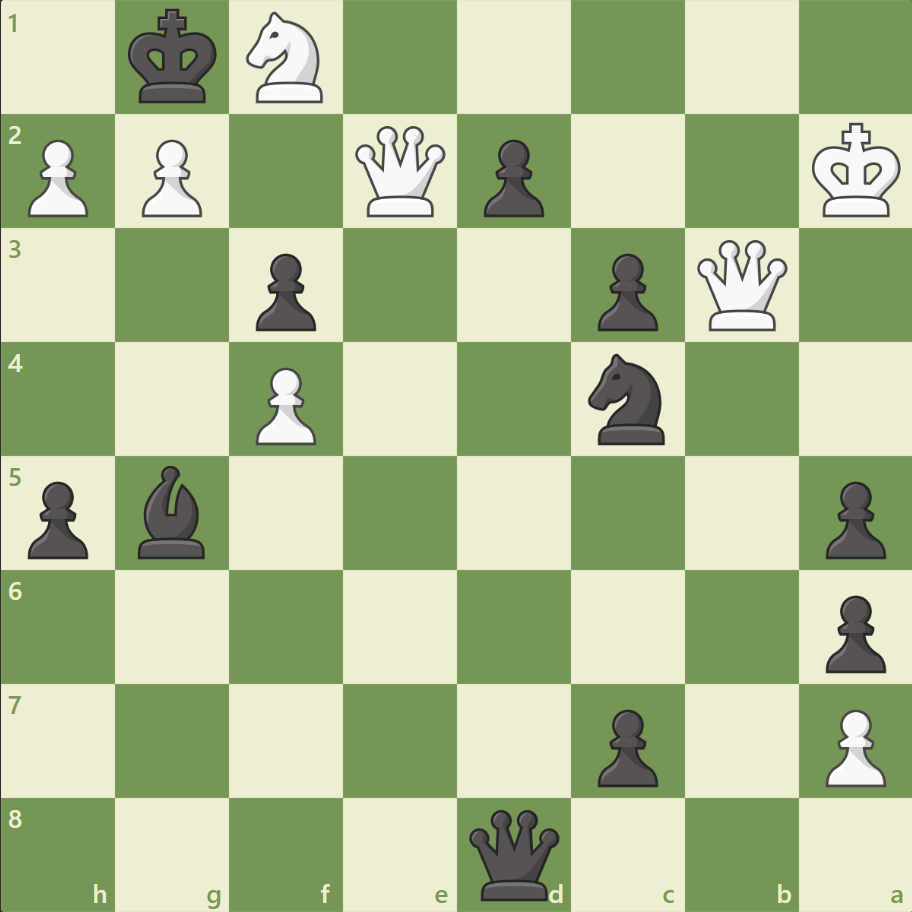K: (806, 117, 906, 225)
N: (238, 7, 335, 110)
P: (247, 359, 322, 450), (133, 132, 208, 223), (20, 132, 95, 223), (815, 700, 889, 791)
Q: (351, 122, 450, 222), (691, 236, 790, 335)
b: (131, 460, 215, 563)
k: (124, 4, 224, 112)
n: (579, 348, 676, 450)
p: (20, 473, 95, 564), (247, 246, 322, 337), (474, 132, 549, 223), (588, 700, 662, 791), (815, 586, 889, 677), (815, 473, 889, 564), (588, 246, 662, 337)
q: (464, 804, 563, 903)
